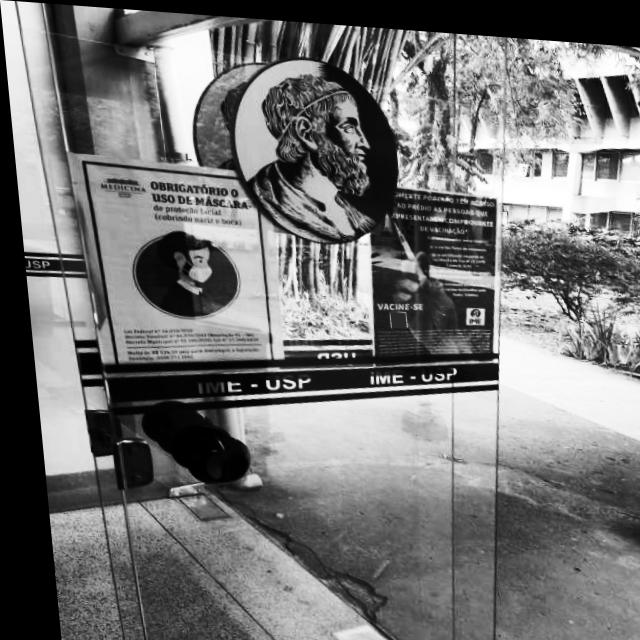qr_code: (385, 306, 401, 323)
